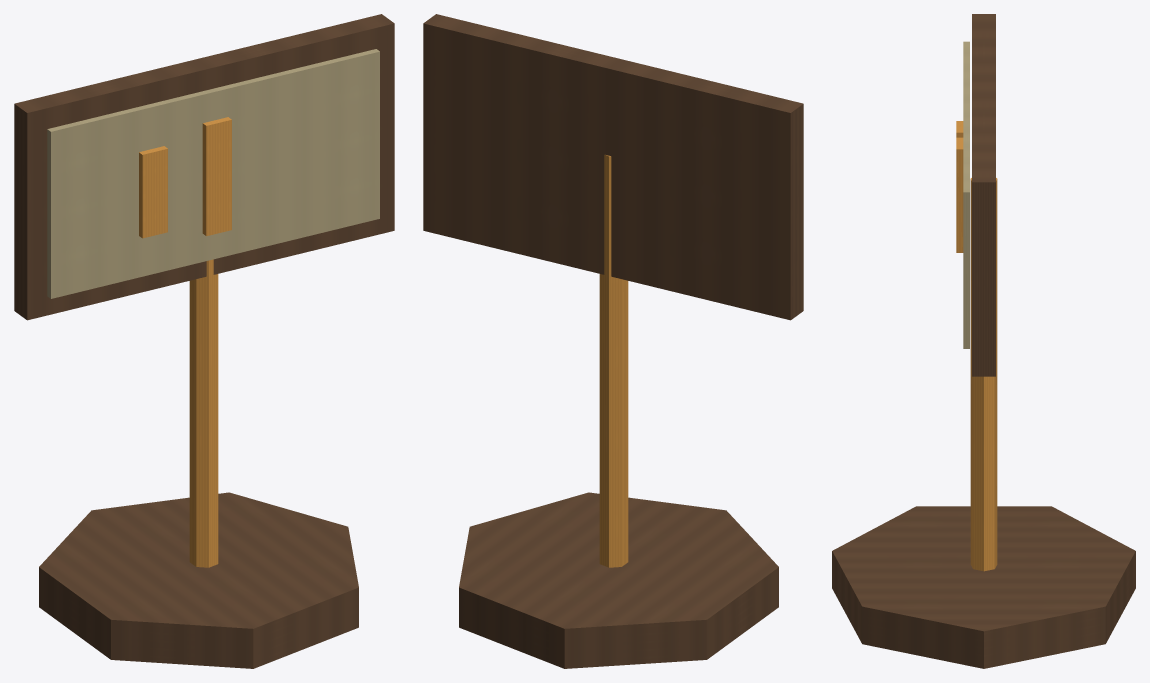
The model's file is atlas100-s013-a11.lod1.glb.
The picture shows the model from 3 angles, left to right: view 1: azimuth 30°, elevation 25°; view 2: azimuth 150°, elevation 25°; view 3: azimuth 270°, elevation 25°; orthographic projection. The views are drawn at different scales.
Visible parts, largest first — view 1: atlas100-s013-a11:part-003, atlas100-s013-a11:part-000, atlas100-s013-a11:part-002, atlas100-s013-a11:part-001, atlas100-s013-a11:part-005, atlas100-s013-a11:part-004; view 2: atlas100-s013-a11:part-002, atlas100-s013-a11:part-000, atlas100-s013-a11:part-001; view 3: atlas100-s013-a11:part-000, atlas100-s013-a11:part-002, atlas100-s013-a11:part-001, atlas100-s013-a11:part-003, atlas100-s013-a11:part-005.
Boxes of the visible parts, bbox=[...] form: atlas100-s013-a11:part-003: bbox=[47, 49, 379, 298]; atlas100-s013-a11:part-000: bbox=[39, 492, 358, 668]; atlas100-s013-a11:part-002: bbox=[14, 14, 394, 320]; atlas100-s013-a11:part-001: bbox=[189, 259, 218, 567]; atlas100-s013-a11:part-005: bbox=[202, 117, 231, 236]; atlas100-s013-a11:part-004: bbox=[139, 146, 167, 238]; atlas100-s013-a11:part-002: bbox=[423, 14, 803, 320]; atlas100-s013-a11:part-000: bbox=[459, 492, 778, 668]; atlas100-s013-a11:part-001: bbox=[599, 154, 628, 567]; atlas100-s013-a11:part-000: bbox=[832, 506, 1135, 668]; atlas100-s013-a11:part-002: bbox=[972, 14, 995, 376]; atlas100-s013-a11:part-001: bbox=[970, 178, 997, 571]; atlas100-s013-a11:part-003: bbox=[963, 41, 969, 348]; atlas100-s013-a11:part-005: bbox=[956, 137, 963, 252].
Size of the model in its own units: 1.15 by 1.61 by 0.8774.
Materials: 3 (3 with a texture image).
